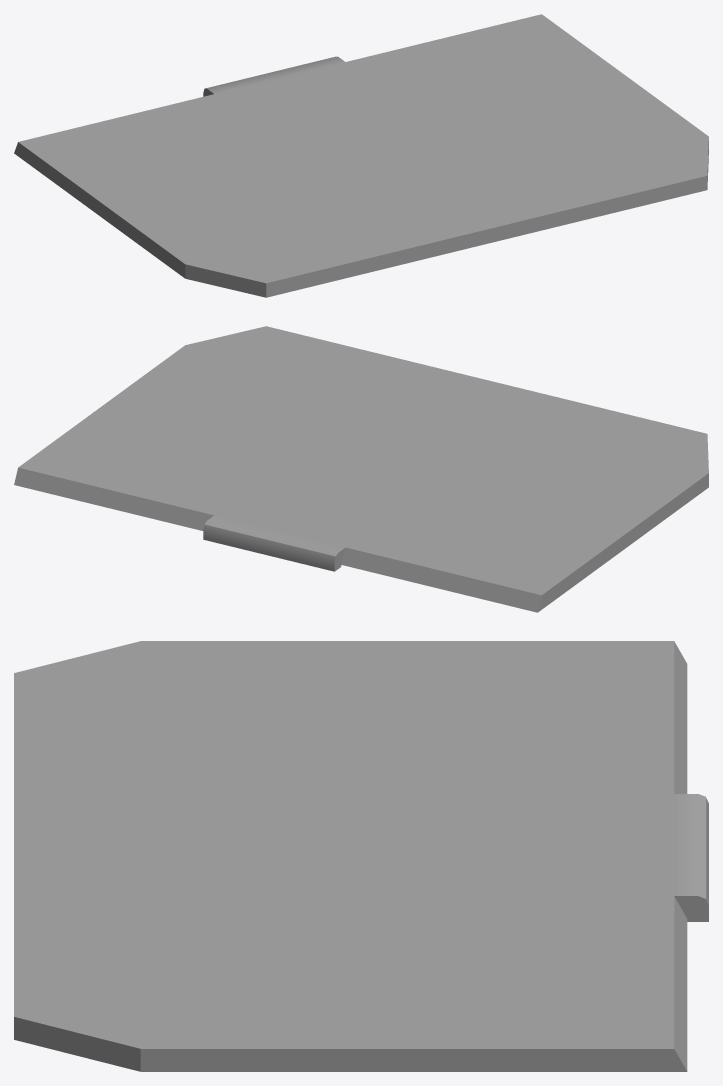
Rendered from LidMeshLaptopLid_28_1_GeomSubset_0.obj.
3 views of the same model, one above another, from view 1: azimuth 30°, elevation 25°; view 2: azimuth 150°, elevation 25°; view 3: azimuth 270°, elevation 25° (orthographic). The views are drawn at different scales.
Parts seen in each view (by area): view 1: LidMeshLaptopLid_28_1_GeomSubset_0; view 2: LidMeshLaptopLid_28_1_GeomSubset_0; view 3: LidMeshLaptopLid_28_1_GeomSubset_0.
Part boxes in pixels (<box>): LidMeshLaptopLid_28_1_GeomSubset_0: <box>14,14,708,297</box>; LidMeshLaptopLid_28_1_GeomSubset_0: <box>14,326,708,612</box>; LidMeshLaptopLid_28_1_GeomSubset_0: <box>14,641,708,1071</box>.
Bounding box in the file's own units: 0.382 × 0.0114 × 0.2752.
